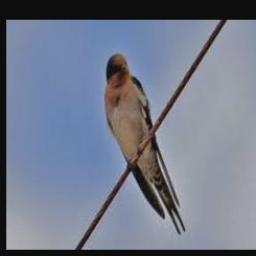Swallow: (103, 53, 185, 234)
